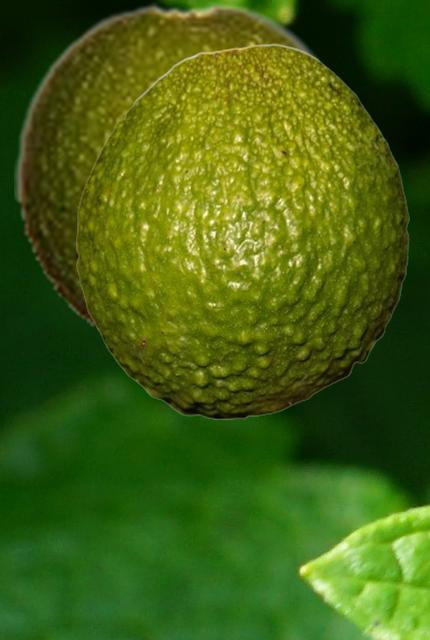avocado: (75, 43, 408, 418), (14, 2, 338, 337)
